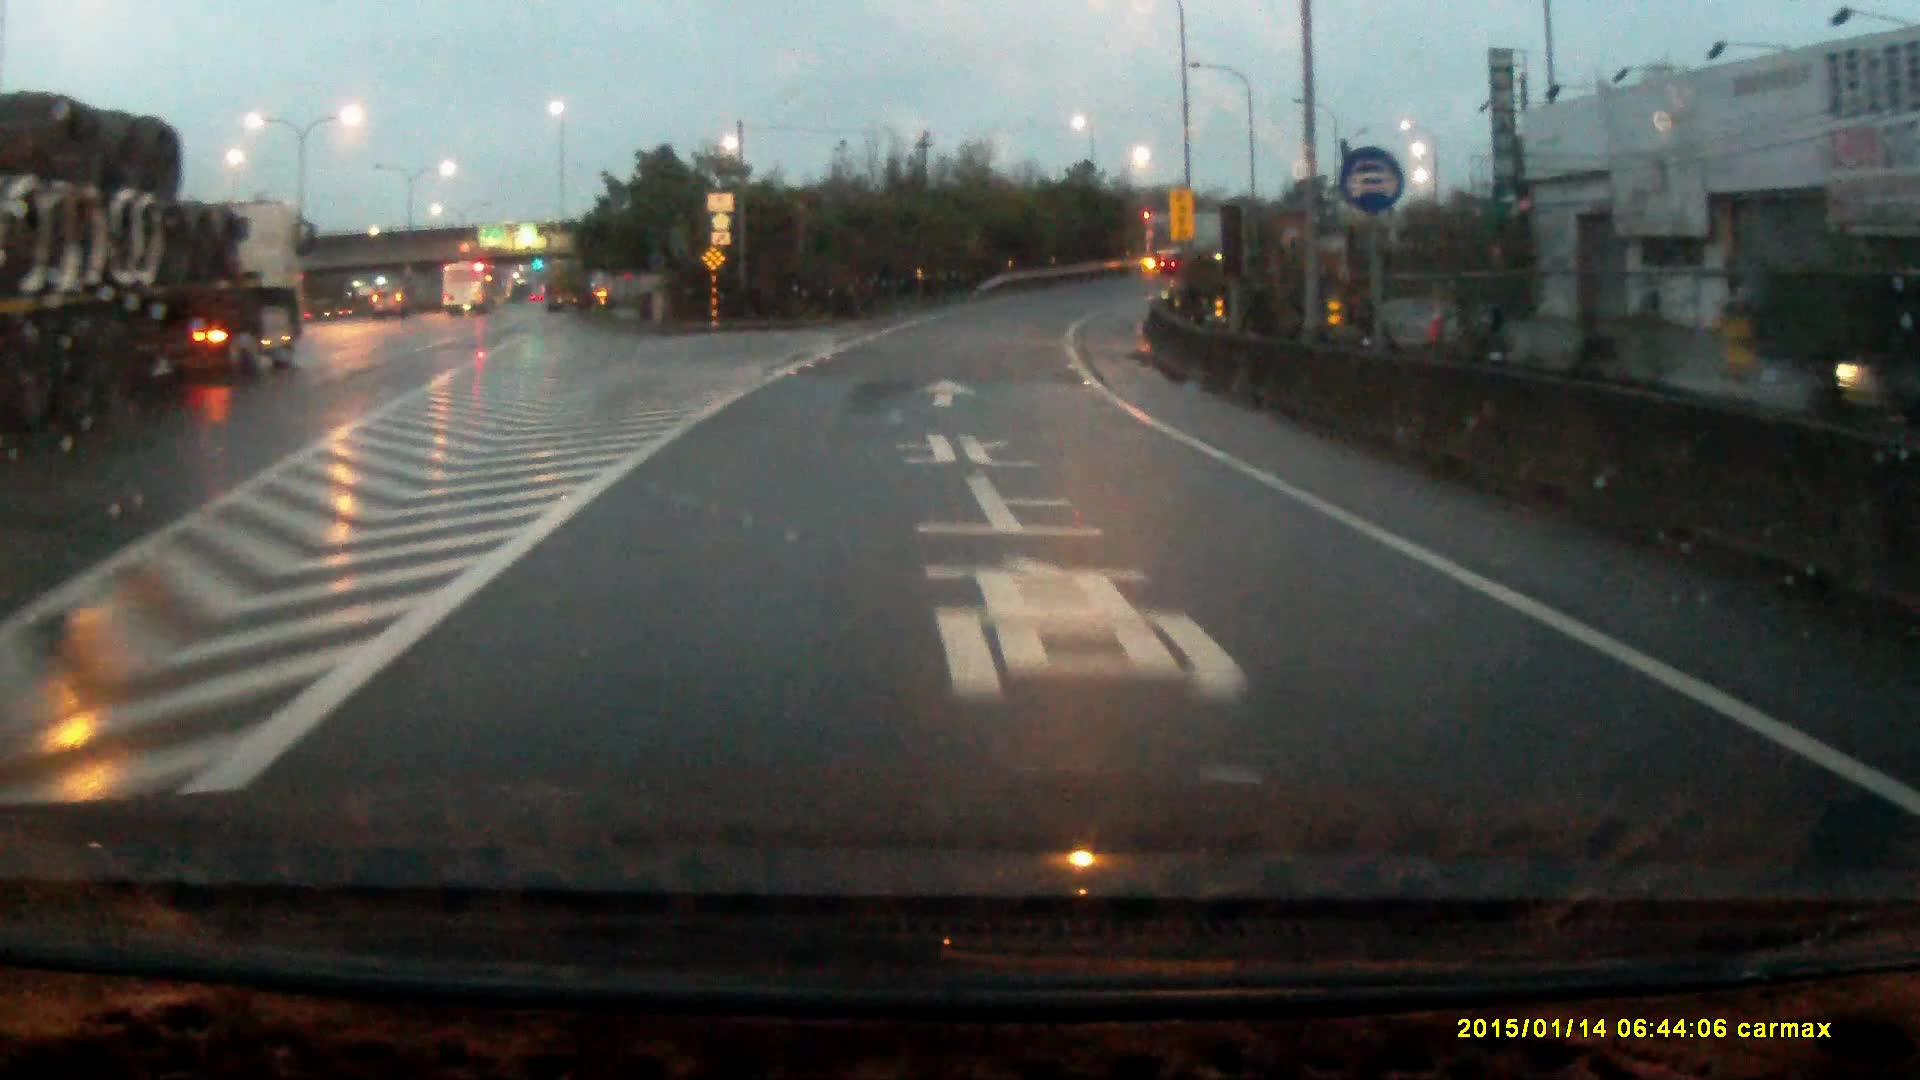vehicle: (1, 96, 322, 430), (1145, 216, 1237, 278), (442, 260, 502, 320), (372, 290, 407, 320)
